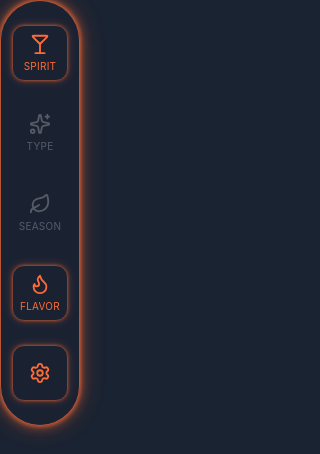
Test: TagRail › settings flyout › opens a flyout with a checkbox when the gear button is clicked
This screenshot has width=320, height=454.
Click the button named "Settings". click: (40, 373)
box: top-left (12, 345), bottom-right (68, 401)
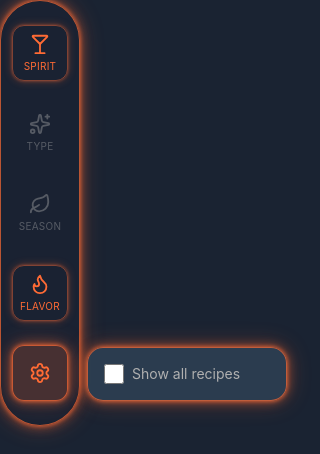
Expected: the checkbox labelled "Show all recipes" is shown, top-left (104, 364), bottom-right (124, 384)
